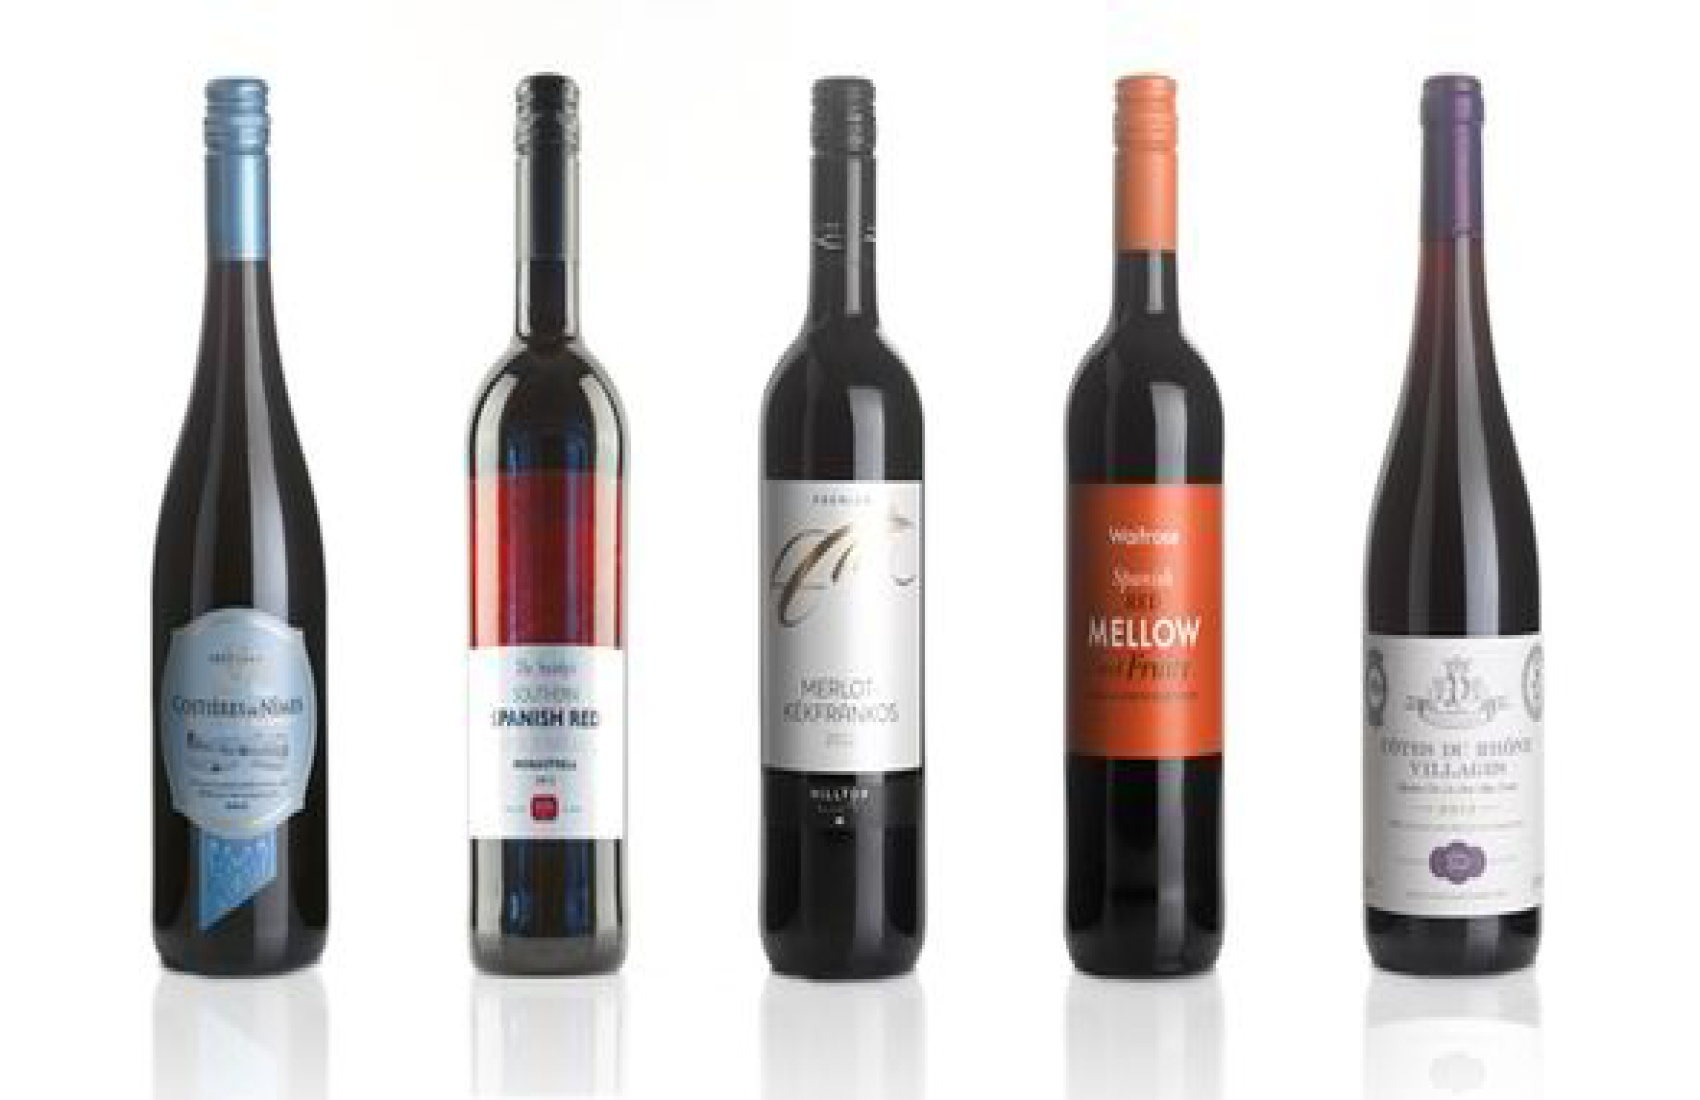wine: (748, 77, 931, 977), (1066, 24, 1225, 986), (154, 84, 322, 979), (1369, 71, 1536, 965), (470, 73, 629, 972)
